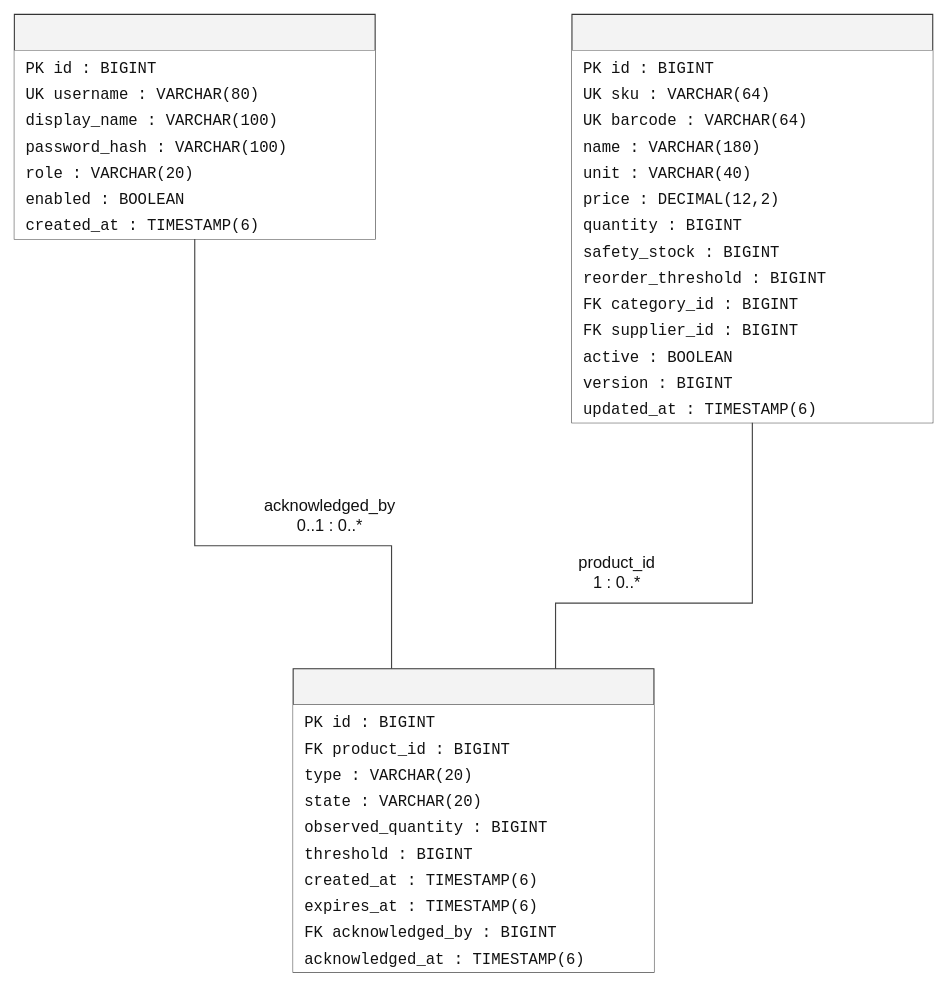
The diagram is 948 pixels wide and 987 high, and some of its shapes have lost their labels. Each missing label, with the box of its shape:
products: (571, 13, 933, 423)
users: (13, 13, 375, 239)
warnings: (292, 668, 654, 972)
